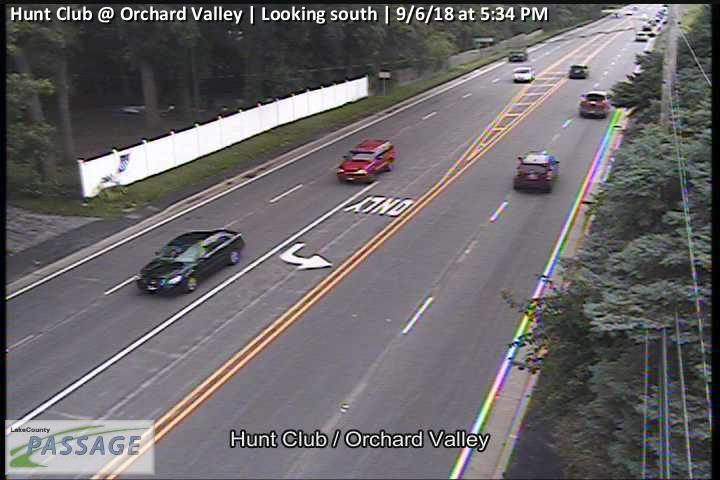Sedan: (135, 227, 246, 295), (336, 139, 396, 183), (512, 151, 560, 191), (578, 91, 611, 118), (511, 65, 534, 82), (568, 64, 589, 78), (508, 48, 529, 61)
